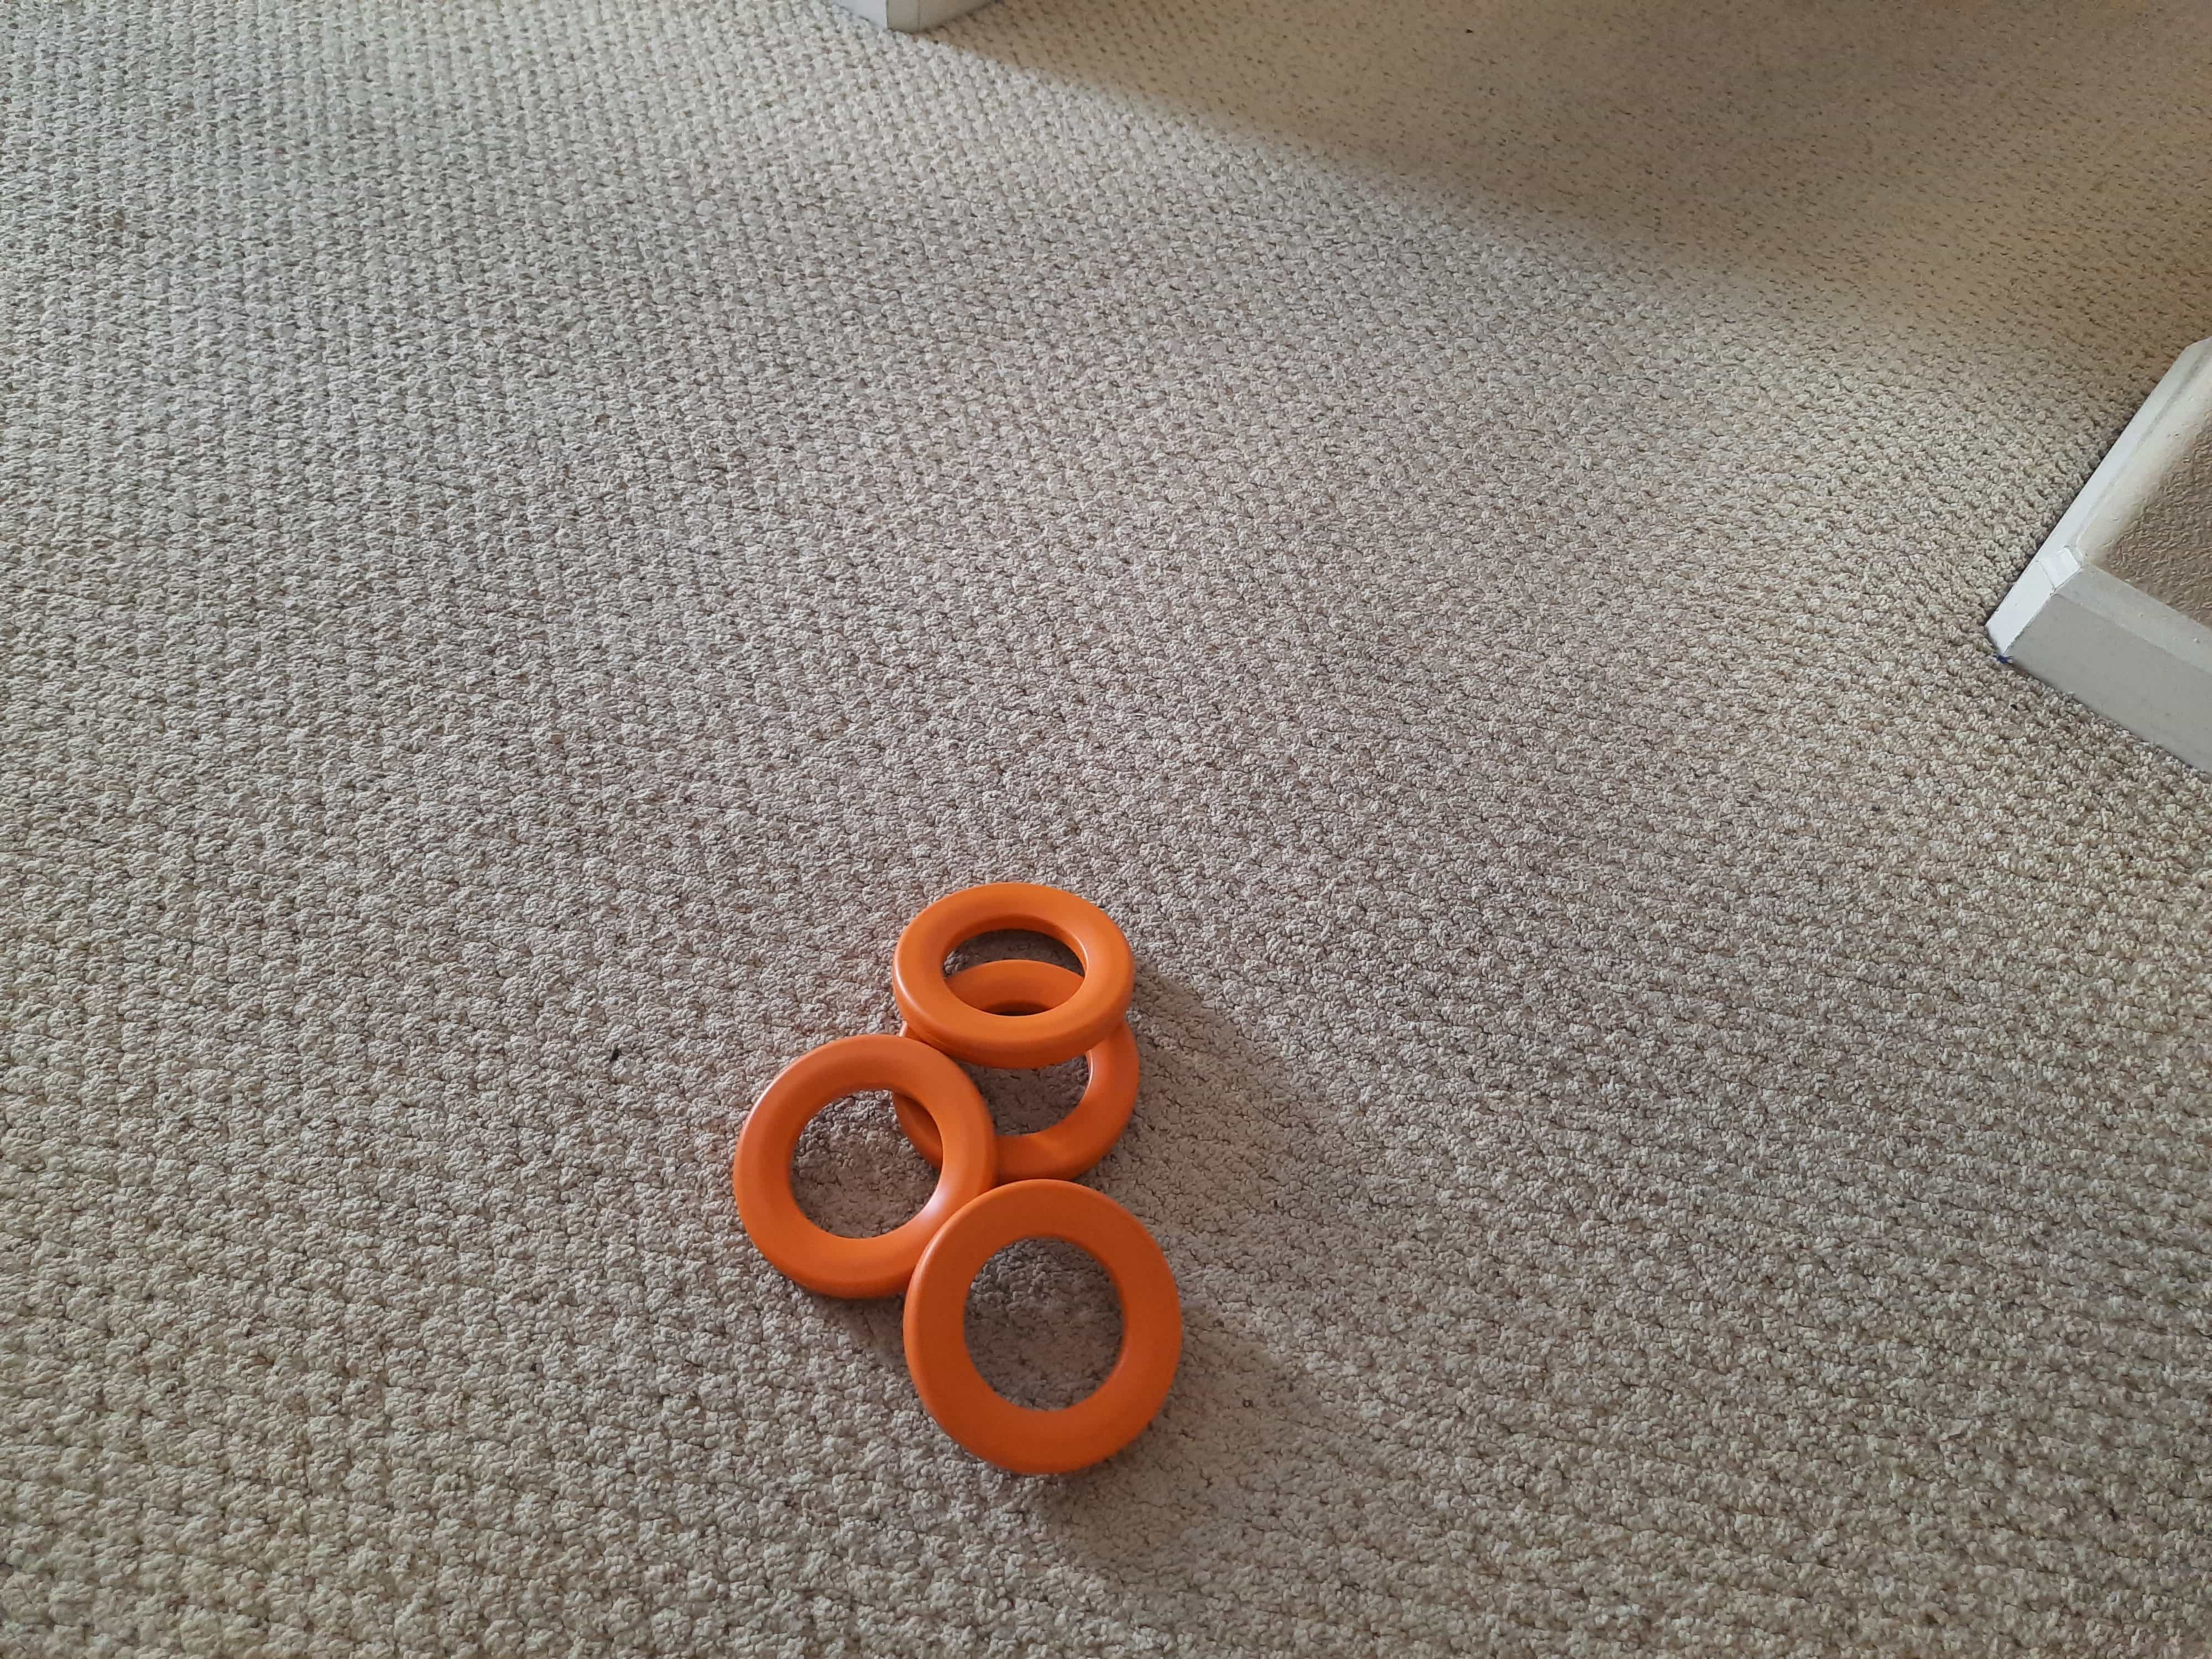OneStack: (911, 1183, 1181, 1469), (728, 1035, 995, 1286), (913, 990, 1134, 1176), (899, 885, 1122, 1033)
